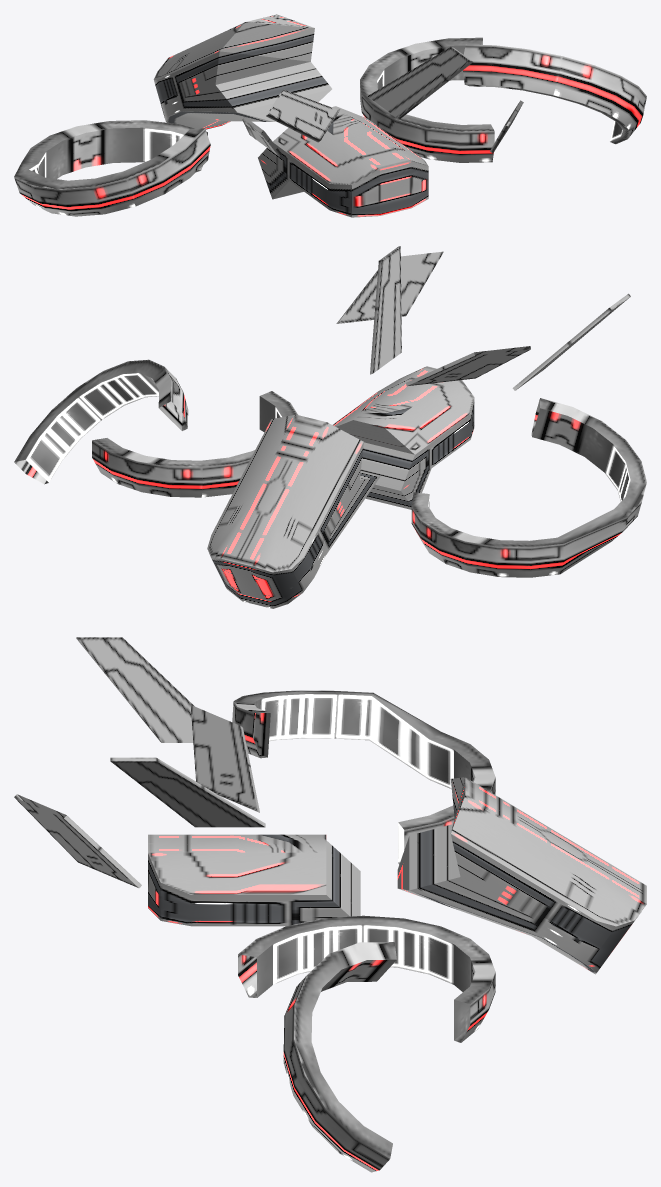
Rendered from Drone1Pieces.fbx.
3 views of the same model, one above another, from view 1: azimuth 30°, elevation 25°; view 2: azimuth 150°, elevation 25°; view 3: azimuth 270°, elevation 25° (orthographic). The views are drawn at different scales.
Parts seen in each view (by area): view 1: DronePropCasing, polySurface8, polySurface7, polySurface2, polySurface1, polySurface6, polySurface3, polySurface4, polySurface5; view 2: polySurface8, DronePropCasing, polySurface7, polySurface2, polySurface1, polySurface6, polySurface5, polySurface3, polySurface4; view 3: polySurface8, polySurface7, DronePropCasing, polySurface1, polySurface2, polySurface4, polySurface3, polySurface6, polySurface5.
Boxes of the visible parts, x1,y1,x2,y2 form: DronePropCasing: [14, 120, 210, 216]; polySurface8: [153, 14, 331, 129]; polySurface7: [258, 106, 428, 217]; polySurface2: [463, 44, 646, 144]; polySurface1: [360, 37, 494, 162]; polySurface6: [367, 47, 472, 118]; polySurface3: [266, 89, 339, 142]; polySurface4: [242, 117, 281, 156]; polySurface5: [490, 100, 523, 153]; polySurface8: [207, 414, 380, 608]; DronePropCasing: [411, 398, 646, 577]; polySurface7: [333, 366, 474, 509]; polySurface2: [14, 359, 188, 484]; polySurface1: [92, 391, 297, 497]; polySurface6: [370, 246, 401, 374]; polySurface5: [336, 251, 443, 323]; polySurface3: [406, 346, 530, 386]; polySurface4: [512, 293, 630, 390]; polySurface8: [397, 777, 646, 974]; polySurface7: [148, 834, 360, 926]; DronePropCasing: [232, 690, 495, 864]; polySurface1: [238, 915, 495, 1042]; polySurface2: [283, 942, 396, 1172]; polySurface4: [76, 637, 194, 742]; polySurface3: [190, 705, 259, 812]; polySurface6: [110, 757, 265, 827]; polySurface5: [14, 794, 141, 888].
Size of the model in its own units: 0.7505 by 0.2606 by 0.5587.
